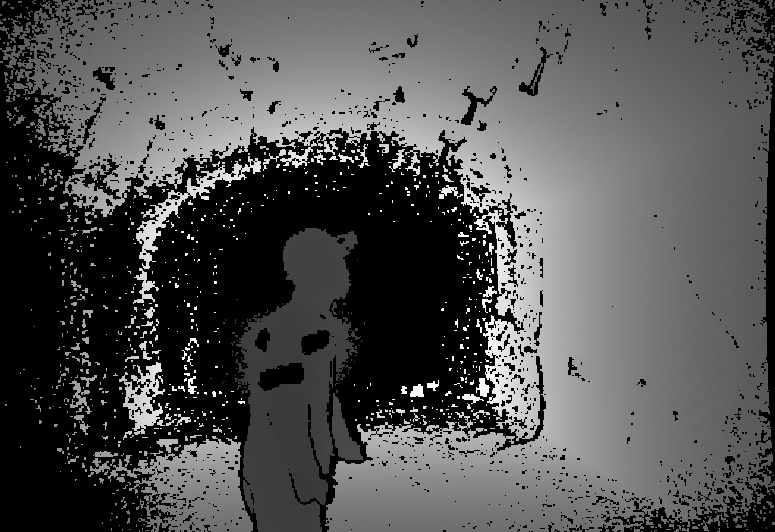person: (239, 227, 363, 532)
